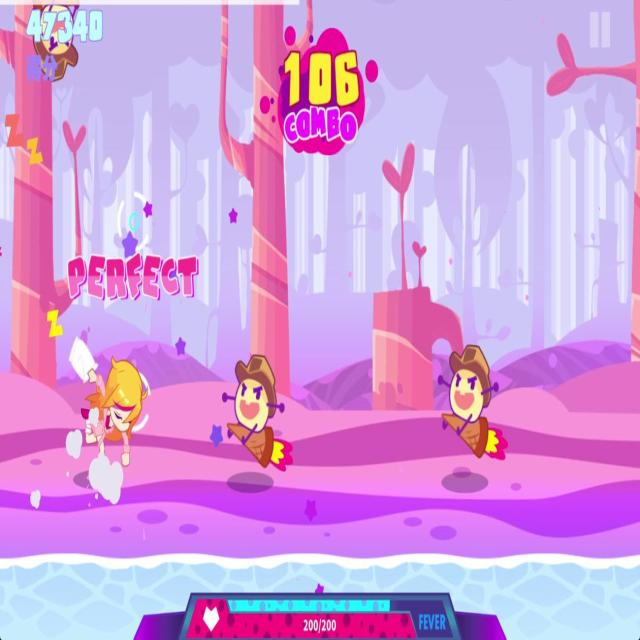qiu: (435, 336, 511, 468), (221, 348, 295, 477), (29, 5, 80, 87)
